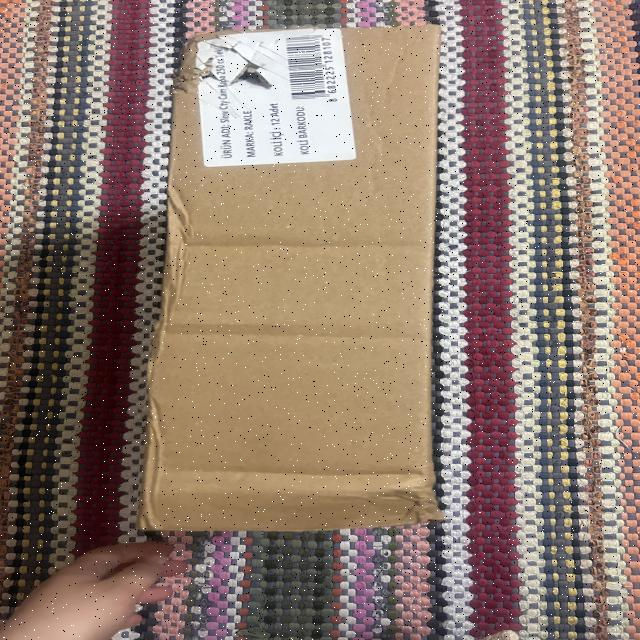damaged: (144, 18, 444, 544), (184, 36, 315, 106)
